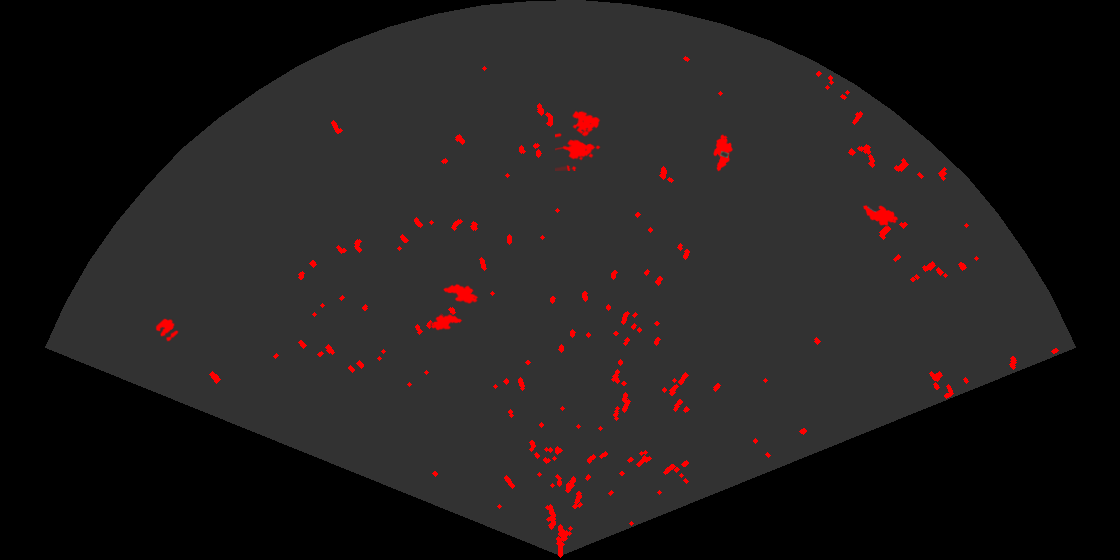AUV: (861, 203, 900, 227), (712, 133, 735, 173), (442, 282, 480, 305), (430, 313, 464, 332)
ball: (154, 317, 180, 343)
cage: (555, 109, 602, 171)
